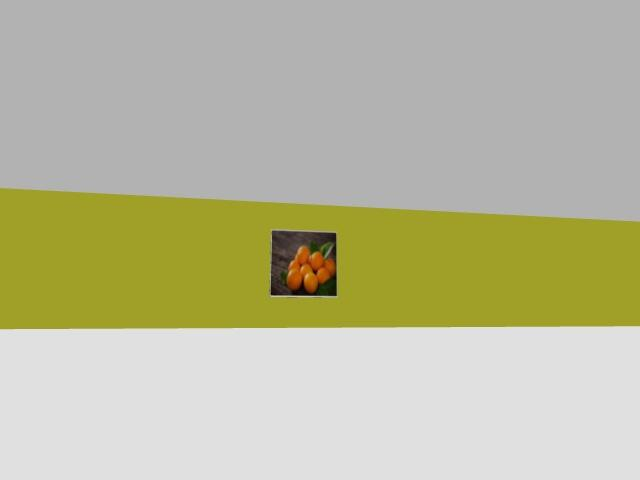orange: (286, 269, 302, 291), (304, 272, 317, 294), (309, 251, 323, 271), (295, 245, 309, 264), (323, 258, 335, 277), (316, 267, 330, 283), (300, 263, 312, 276), (294, 253, 307, 264), (288, 260, 299, 270)
